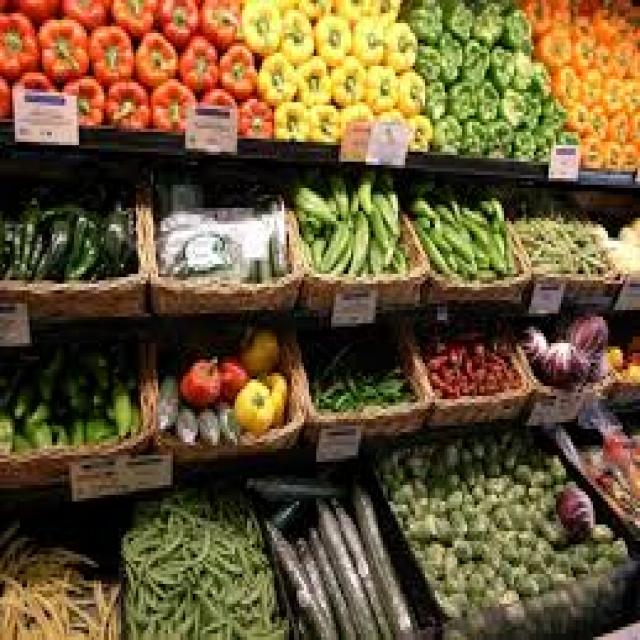organic waste: (121, 482, 284, 636), (0, 518, 91, 637), (346, 469, 408, 630), (311, 488, 373, 637), (328, 492, 391, 636), (262, 512, 326, 634), (511, 204, 608, 274), (304, 522, 351, 634), (311, 356, 413, 406), (37, 205, 96, 277), (294, 528, 331, 637), (242, 468, 346, 505), (34, 13, 86, 79), (86, 20, 134, 82), (175, 27, 218, 92), (460, 208, 504, 270), (133, 26, 178, 86), (96, 201, 134, 271), (272, 558, 306, 634), (0, 10, 37, 79), (175, 350, 220, 406), (0, 214, 42, 274), (254, 46, 296, 106), (148, 76, 195, 129), (101, 72, 146, 126), (554, 478, 593, 538), (218, 36, 255, 99), (541, 333, 586, 383), (82, 570, 116, 636), (235, 320, 277, 373), (60, 69, 102, 122), (408, 218, 447, 274), (232, 373, 270, 429), (254, 363, 286, 429), (240, 0, 279, 53), (277, 7, 311, 66), (232, 89, 272, 139), (606, 208, 638, 270), (326, 50, 361, 106), (309, 336, 348, 386), (156, 0, 198, 46), (289, 181, 336, 221), (509, 46, 546, 96), (534, 20, 571, 69), (564, 306, 606, 349), (198, 0, 237, 46), (10, 360, 42, 416), (311, 13, 351, 56), (380, 13, 412, 66), (406, 0, 442, 46), (516, 323, 548, 373), (111, 0, 158, 33), (267, 188, 284, 277), (153, 369, 178, 429), (363, 59, 393, 109), (319, 218, 351, 264), (59, 356, 86, 409), (56, 0, 111, 26), (297, 53, 326, 102), (270, 96, 306, 135), (254, 204, 272, 280), (304, 99, 338, 139), (438, 218, 470, 260), (591, 7, 625, 46), (393, 66, 420, 115), (459, 33, 486, 82), (346, 208, 366, 274), (82, 343, 108, 393), (348, 17, 381, 56), (601, 429, 630, 472), (193, 400, 220, 446), (548, 59, 576, 102), (438, 26, 460, 80), (82, 402, 114, 439), (109, 373, 126, 442), (504, 3, 531, 46), (469, 0, 501, 36), (220, 353, 245, 399), (489, 40, 514, 86), (603, 475, 637, 508), (435, 541, 457, 591), (20, 412, 52, 446), (457, 112, 484, 152), (440, 0, 472, 33), (578, 436, 603, 478), (521, 0, 550, 36), (613, 36, 637, 79), (371, 185, 393, 231), (326, 168, 346, 218), (173, 402, 195, 446), (539, 92, 563, 132), (450, 76, 472, 119), (474, 76, 496, 119), (578, 59, 600, 102), (568, 23, 590, 66), (514, 567, 549, 594), (380, 175, 396, 234), (502, 83, 526, 122), (452, 248, 484, 277), (422, 508, 450, 541), (215, 400, 235, 446), (477, 195, 502, 231), (405, 109, 430, 145), (433, 112, 457, 149), (353, 168, 373, 211), (487, 116, 509, 155), (509, 119, 531, 158), (532, 119, 554, 158), (422, 73, 444, 112), (462, 501, 484, 538), (336, 95, 371, 118), (578, 129, 600, 165), (566, 538, 593, 567), (368, 201, 386, 244), (586, 211, 606, 248), (15, 69, 52, 89), (593, 39, 613, 76), (440, 564, 467, 591), (15, 191, 42, 218), (433, 442, 457, 472), (422, 538, 442, 574), (37, 360, 54, 402), (378, 448, 398, 482), (620, 326, 638, 363), (464, 465, 482, 502), (521, 82, 539, 119), (509, 498, 529, 531), (532, 531, 554, 561), (378, 231, 398, 264), (329, 244, 353, 271), (444, 502, 464, 534), (415, 40, 435, 72), (472, 538, 499, 561), (284, 0, 331, 13), (588, 514, 613, 538), (618, 135, 638, 165), (586, 102, 606, 132), (603, 534, 625, 561), (494, 557, 516, 584), (408, 192, 435, 214), (17, 0, 54, 16), (47, 416, 67, 445), (489, 502, 509, 531), (566, 96, 586, 125), (371, 0, 400, 20), (544, 448, 561, 482), (608, 102, 625, 136), (200, 86, 235, 102), (610, 0, 638, 20), (373, 99, 400, 119), (66, 409, 82, 442), (306, 231, 322, 264), (622, 66, 638, 99), (583, 350, 603, 376), (625, 426, 638, 465), (442, 340, 464, 363), (571, 0, 593, 23), (400, 452, 425, 472), (442, 468, 460, 495), (334, 0, 371, 13), (405, 514, 425, 538), (586, 551, 610, 571), (472, 554, 492, 578), (126, 393, 138, 432), (499, 360, 517, 386), (296, 218, 312, 247), (0, 409, 10, 455), (499, 538, 519, 561), (603, 135, 618, 165), (425, 350, 445, 372), (0, 76, 10, 119), (482, 366, 502, 386), (390, 478, 410, 498), (486, 468, 506, 488), (509, 458, 529, 478), (528, 465, 548, 485), (526, 465, 546, 485), (432, 198, 452, 218), (551, 0, 568, 23), (460, 205, 484, 221), (628, 102, 638, 139), (496, 442, 512, 465), (606, 340, 620, 366), (12, 429, 30, 449), (427, 494, 445, 514), (512, 525, 534, 541), (47, 340, 62, 363), (410, 472, 425, 495), (469, 429, 482, 455), (605, 76, 618, 102), (472, 492, 499, 504), (450, 594, 470, 610), (522, 551, 542, 567), (548, 548, 568, 564), (469, 340, 482, 363), (452, 538, 470, 554), (462, 363, 484, 376), (452, 376, 480, 386), (497, 588, 519, 600), (444, 221, 454, 247), (556, 125, 576, 138), (444, 363, 460, 379), (509, 432, 524, 449), (425, 475, 440, 492), (410, 498, 425, 515), (506, 478, 524, 492), (422, 334, 442, 346), (487, 346, 499, 366), (393, 494, 405, 514), (442, 492, 462, 504), (427, 366, 440, 383), (442, 247, 455, 264), (548, 568, 570, 578), (620, 360, 638, 372), (484, 429, 492, 455), (435, 380, 452, 392), (346, 188, 356, 208), (447, 194, 457, 214), (494, 336, 504, 353), (460, 442, 470, 459), (412, 211, 422, 224), (0, 0, 12, 10)
